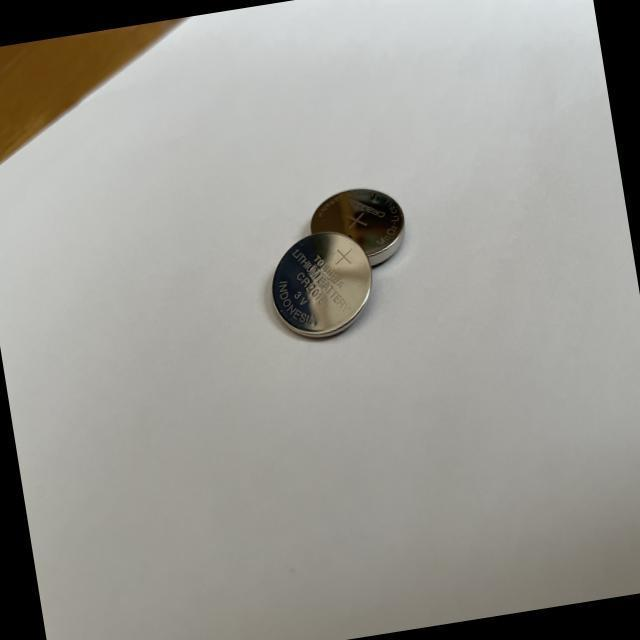COIN: (263, 224, 382, 347), (304, 182, 412, 280)
